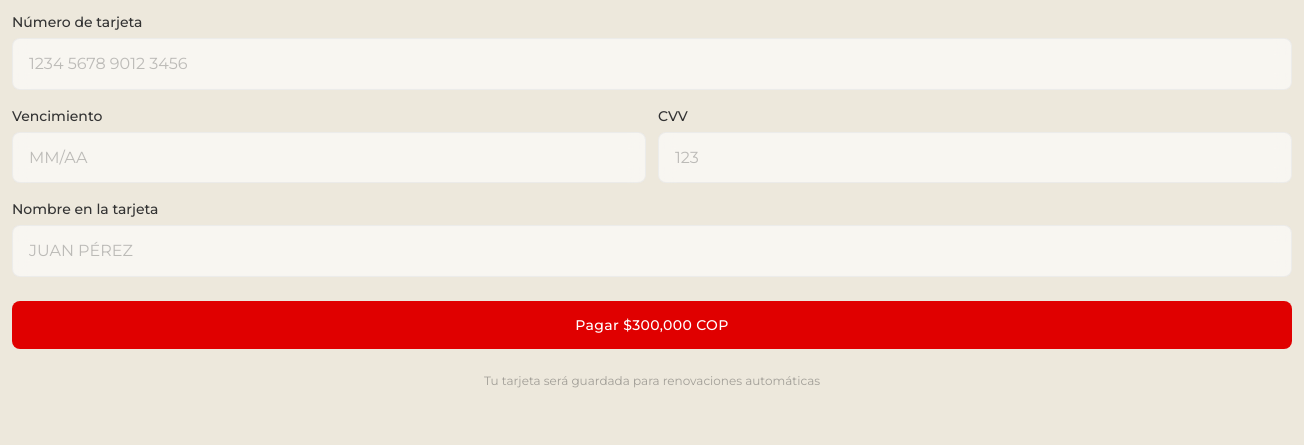
CardPaymentForm › shows validation error for invalid card number on blur
Type "123" into the field labelled "Número de tarjeta". click: point(652, 64)
box: [12,38,1292,90]
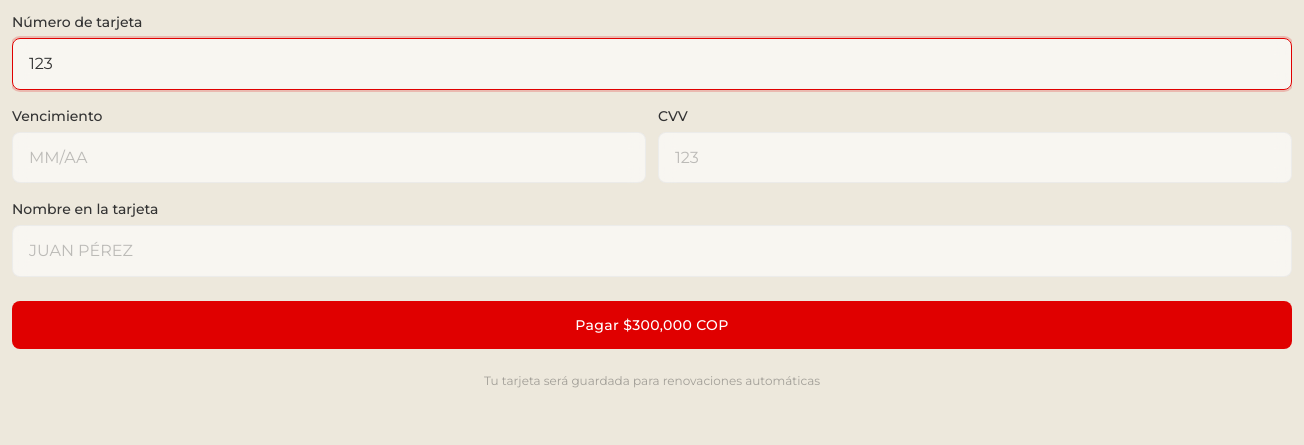
Press Tab
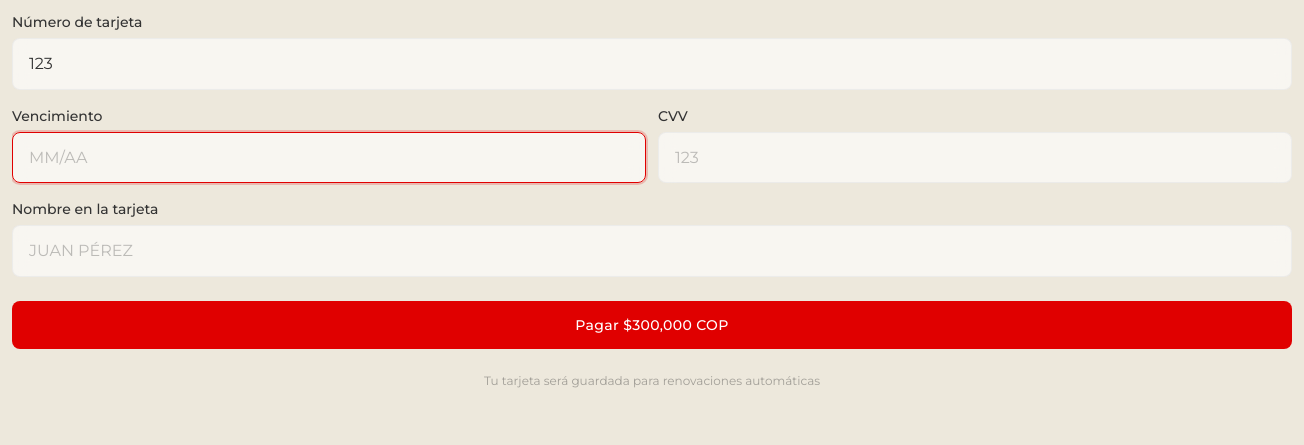
Click the button "Pagar $300,000 COP". click: point(652, 325)
box: [12,301,1292,349]
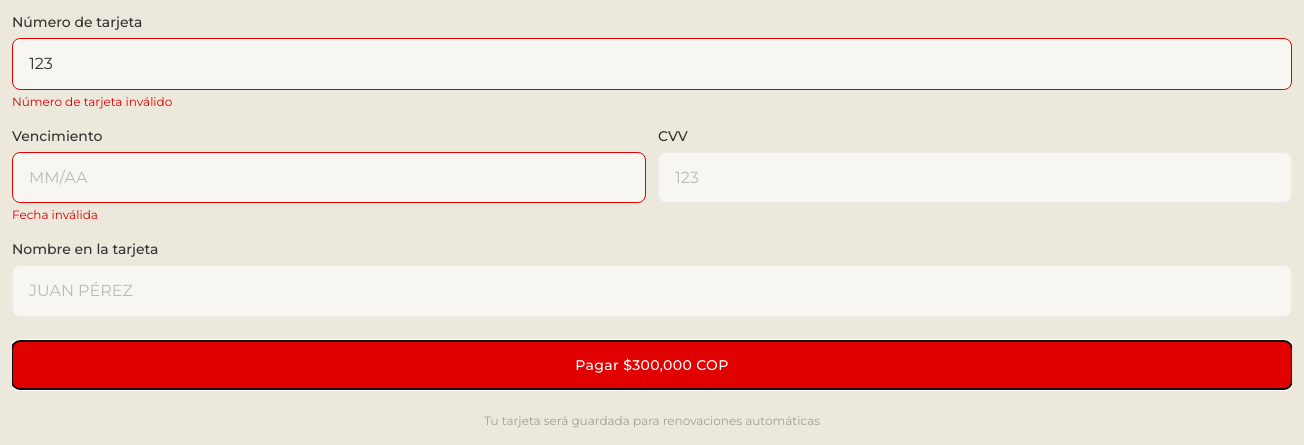
Now the text "Número de tarjeta inválido" is shown, box [12,94,172,109]
